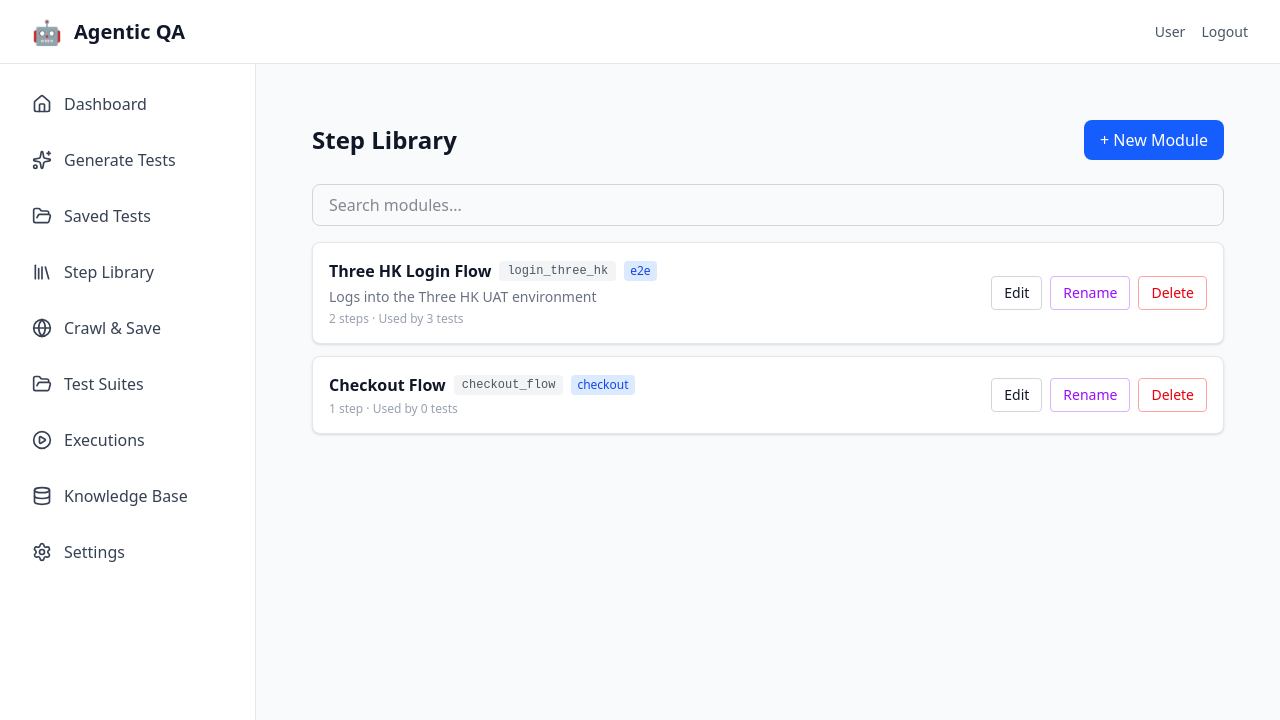
Test: StepLibraryPage › 4. search filters visible modules
Check: the text "Three HK Login Flow" is shown, box [329,259,491,283]
Type "checkout" into the field with placeholder "Search modules...". click: (768, 205)
box: [312,184,1224,226]
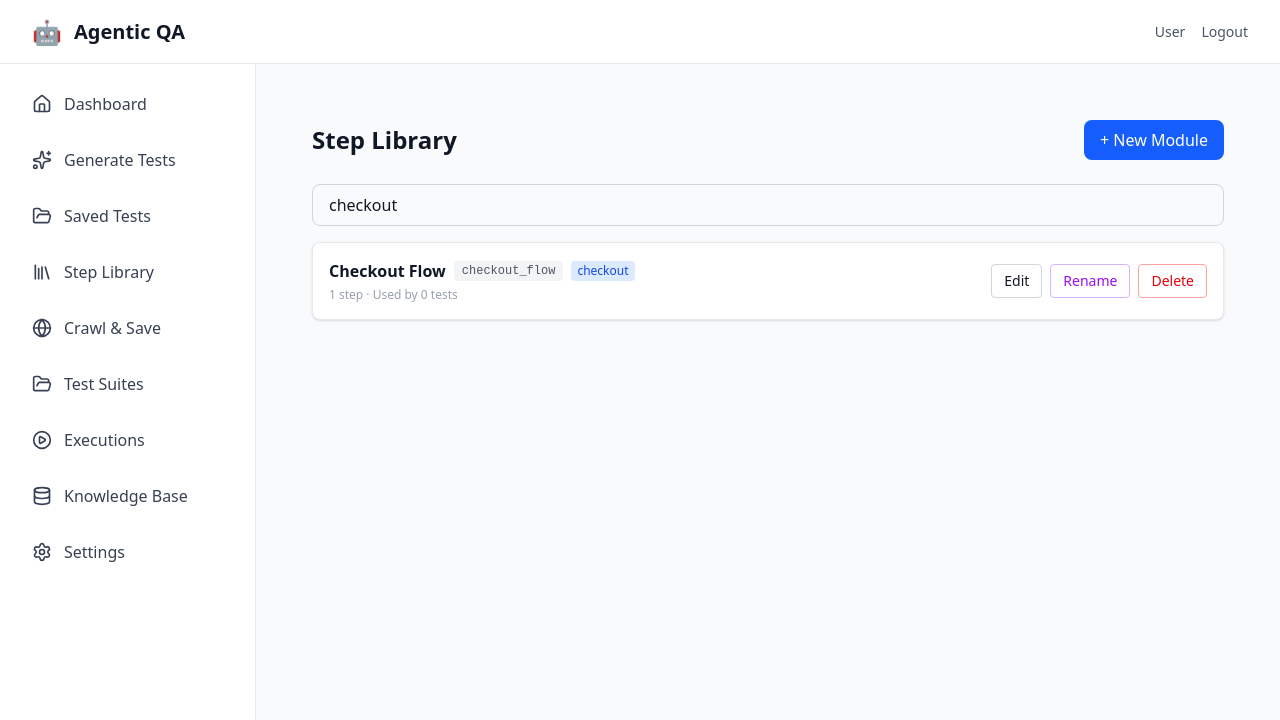
Check: the text "Checkout Flow" is shown, box [329,259,446,283]
Check: the text "Three HK Login Flow" is gone
